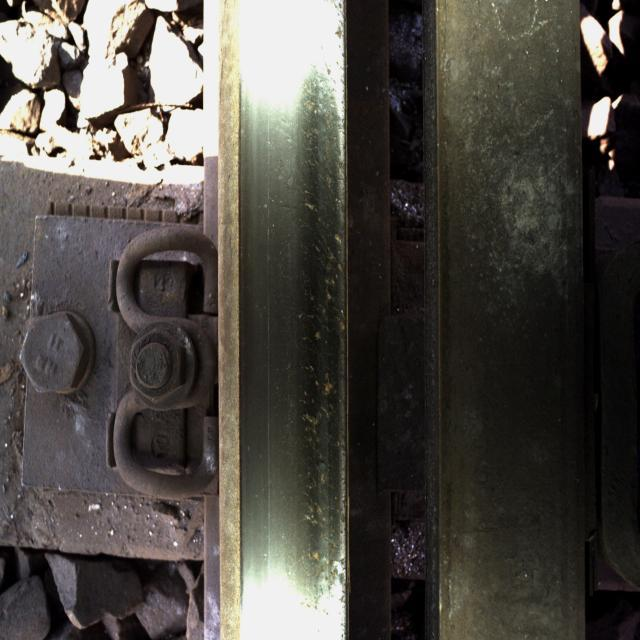normal: (249, 16, 346, 610)
